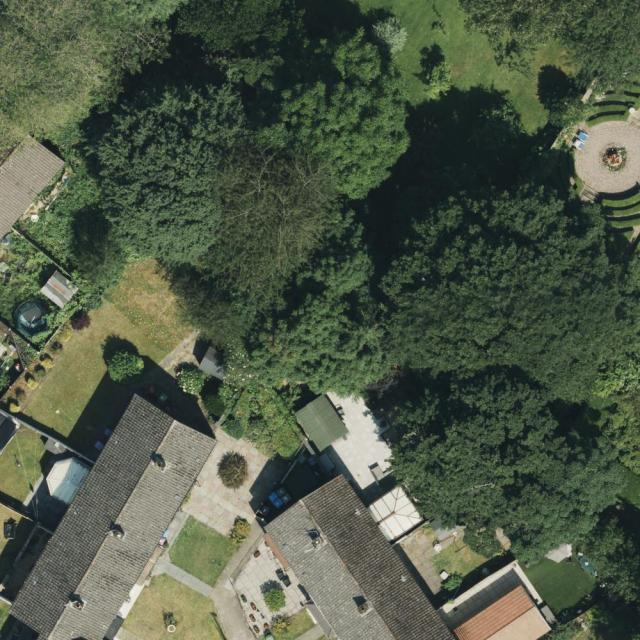roof: (10, 390, 222, 640), (262, 470, 555, 640), (0, 128, 74, 238)
